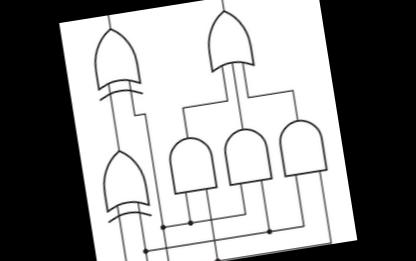and: (270, 108, 332, 180), (160, 126, 221, 198), (217, 117, 276, 188)
xor: (92, 138, 156, 227), (83, 17, 148, 103)
